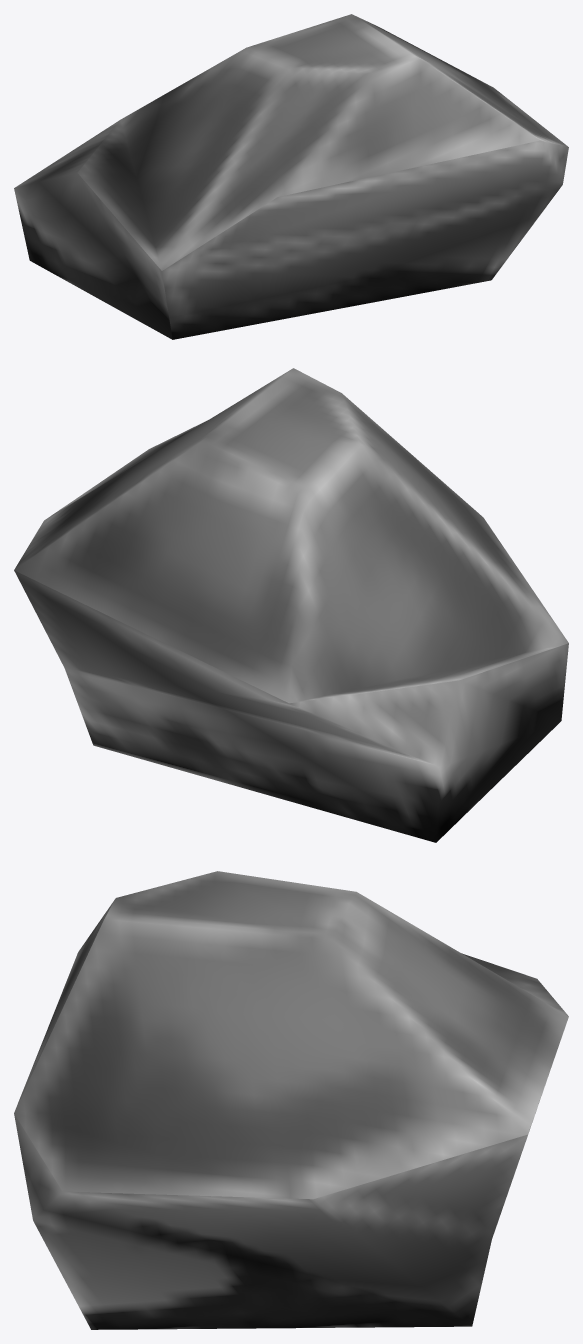
Rendered from SM_Rock_10.fbx.
The picture shows the model from 3 angles, top to bottom: view 1: azimuth 30°, elevation 25°; view 2: azimuth 150°, elevation 25°; view 3: azimuth 270°, elevation 25°; orthographic projection. The views are drawn at different scales.
Parts seen in each view (by area): view 1: Roca 10; view 2: Roca 10; view 3: Roca 10.
Part boxes in pixels (x1,y1,x2,y2): Roca 10: (14, 14, 568, 339); Roca 10: (14, 368, 568, 842); Roca 10: (14, 871, 568, 1329).
Bounding box in the file's own units: 4.38 × 2.48 × 3.37.
1 material, 1 textured.
